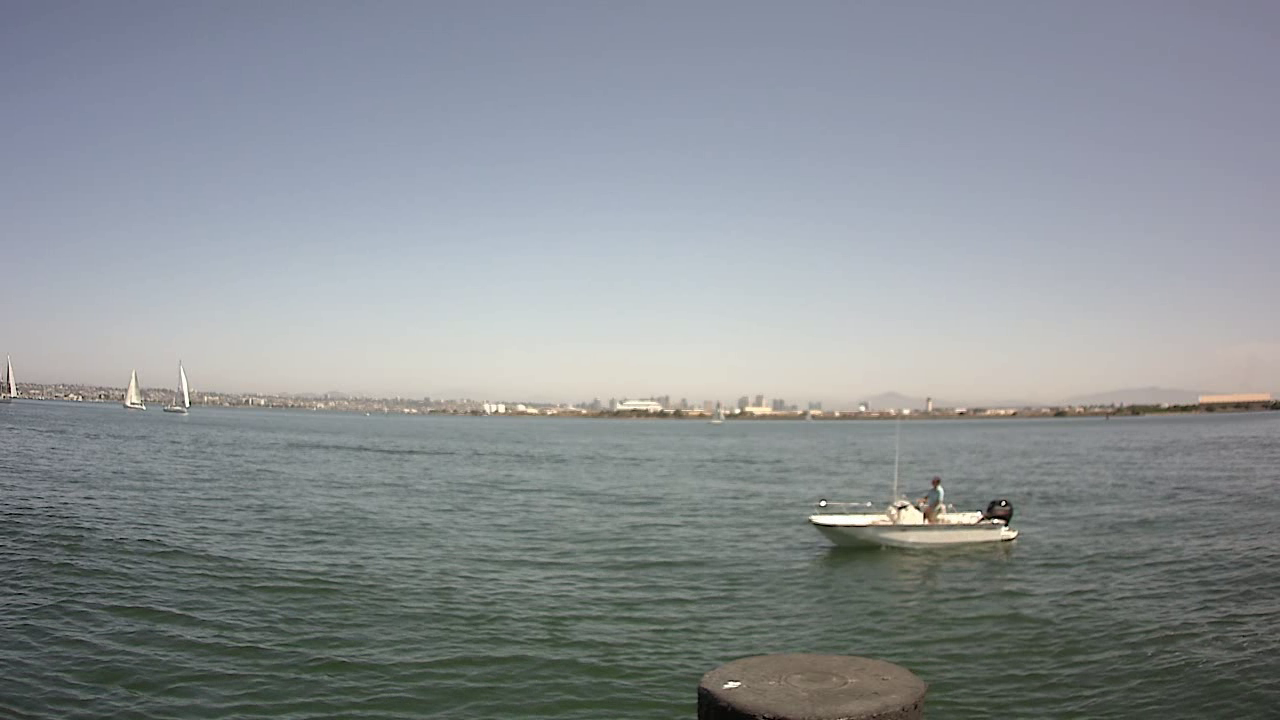target: (805, 465, 1024, 554)
